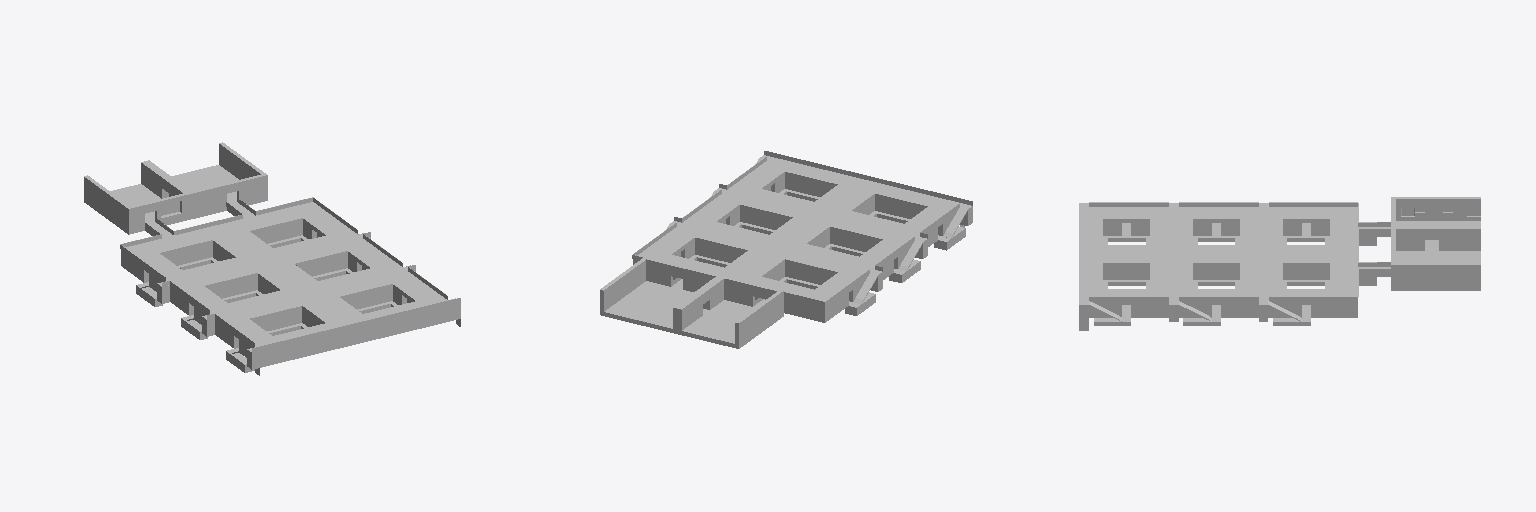
The model's file is Hangar&Office.obj.
The picture shows the model from 3 angles: view 1: azimuth 30°, elevation 25°; view 2: azimuth 150°, elevation 25°; view 3: azimuth 270°, elevation 25°; orthographic projection.
Visible parts, largest first — view 1: Cube.004, Cube.001, Cube.003, Cube.002; view 2: Cube.004, Cube.003, Cube.001, Cube.002; view 3: Cube.004, Cube.001, Cube.003, Cube.002.
Boxes of the visible parts, x1,y1,x2,y2 form: Cube.004: [120, 197, 460, 364]; Cube.001: [121, 218, 452, 372]; Cube.003: [84, 142, 267, 235]; Cube.002: [141, 233, 460, 375]; Cube.004: [632, 151, 972, 307]; Cube.003: [600, 257, 783, 348]; Cube.001: [633, 172, 965, 322]; Cube.002: [666, 155, 972, 303]; Cube.004: [1079, 202, 1390, 321]; Cube.001: [1089, 219, 1367, 325]; Cube.003: [1377, 197, 1480, 290]; Cube.002: [1079, 203, 1301, 330].
Size of the model in its own units: 25.51 by 5.5 by 42.57.